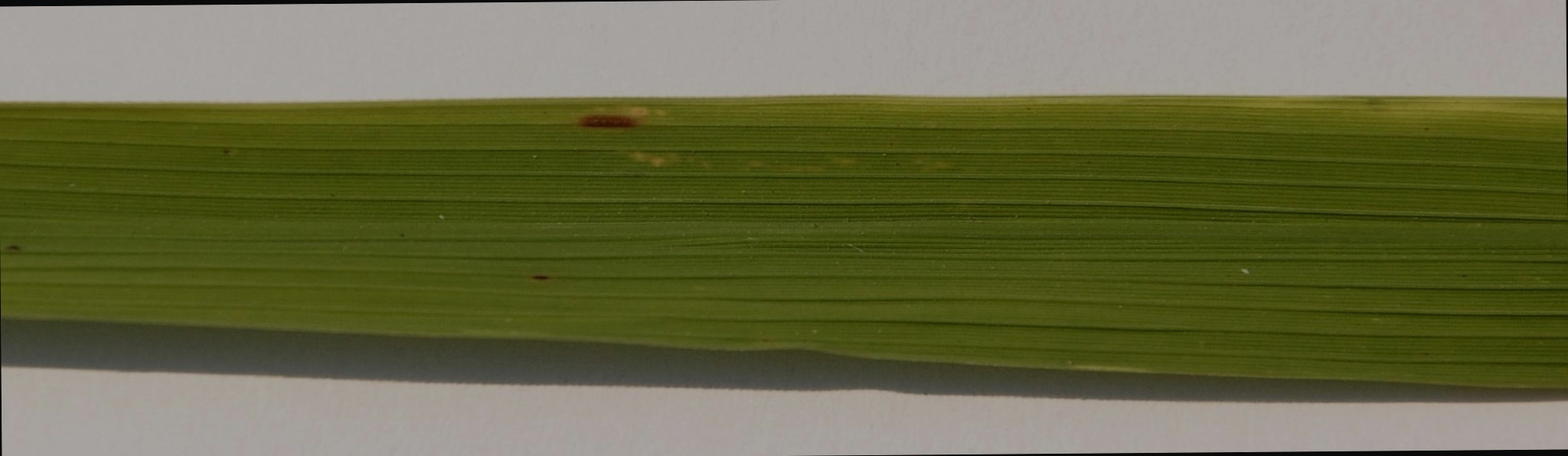Bacterial_Leaf_Blight: (536, 102, 672, 152)
